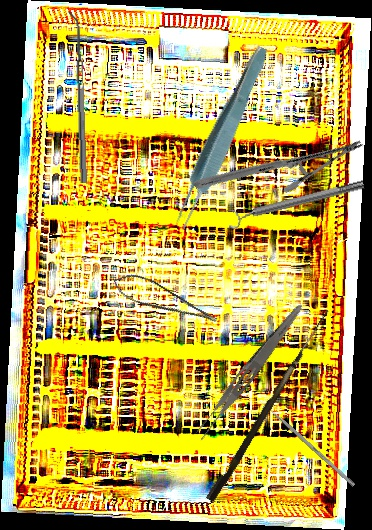Dressing Forceps: (190, 298, 307, 444)
Fixation Ring: (224, 174, 367, 231)
Hook Surgical: (206, 304, 329, 505)
Micro Scissor: (109, 264, 220, 341)
Needle Holder: (192, 80, 364, 249)
Pusher: (256, 397, 356, 487)
Spatula Surgical: (68, 11, 87, 184)
Tissue Forceps: (166, 42, 276, 233)
